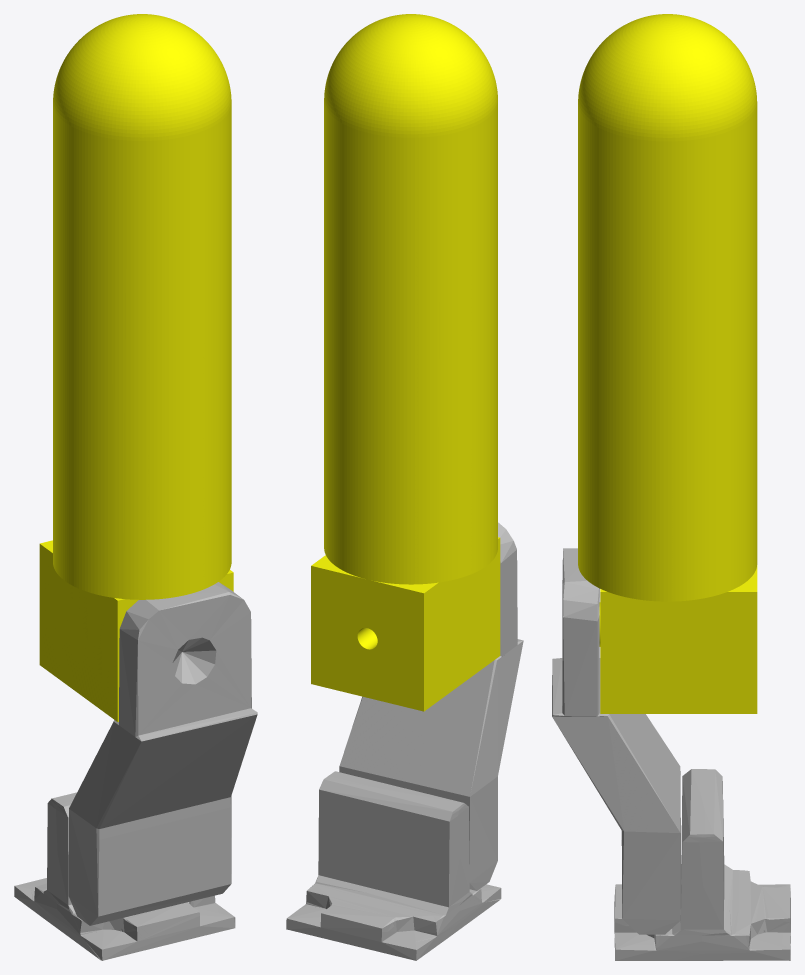
File: finger_part_right.dae
The picture shows the model from 3 angles, left to right: view 1: azimuth 30°, elevation 25°; view 2: azimuth 150°, elevation 25°; view 3: azimuth 270°, elevation 25°; orthographic projection. The views are drawn at different scales.
Visible parts, largest first — view 1: part_r, node; view 2: part_r, node; view 3: part_r, node.
Part boxes in pixels (x1=…): part_r: x1=39, y1=14, x2=233, y2=721; node: x1=14, y1=582, x2=257, y2=960; part_r: x1=311, y1=14, x2=500, y2=711; node: x1=286, y1=522, x2=523, y2=960; part_r: x1=578, y1=14, x2=757, y2=713; node: x1=552, y1=548, x2=790, y2=960.
Bounding box in the file's own units: 0.024 × 0.032 × 0.1339.
